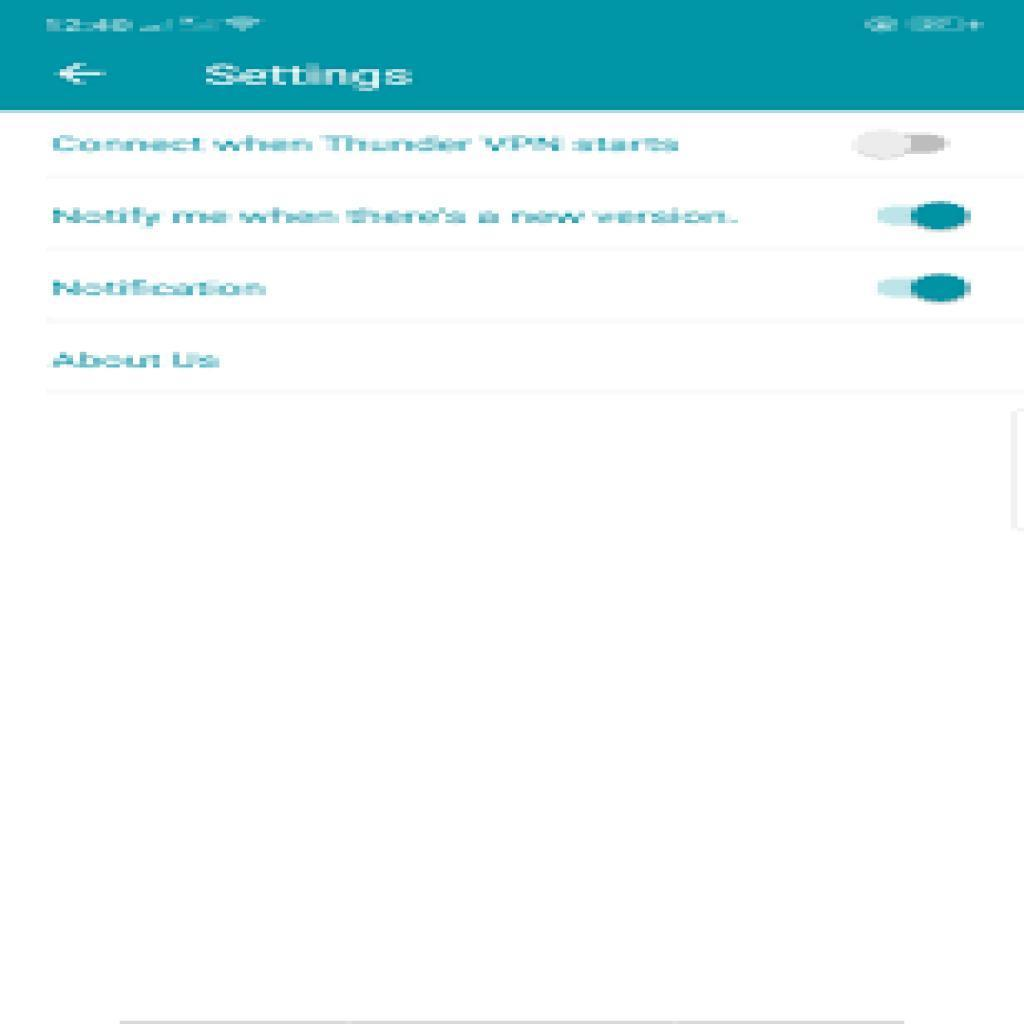icon: (55, 58, 113, 93)
label: (49, 127, 687, 165), (40, 197, 747, 231), (44, 270, 278, 308), (207, 60, 422, 96), (44, 347, 225, 381)
switch: (854, 130, 951, 163), (879, 275, 972, 307), (878, 203, 973, 232)
